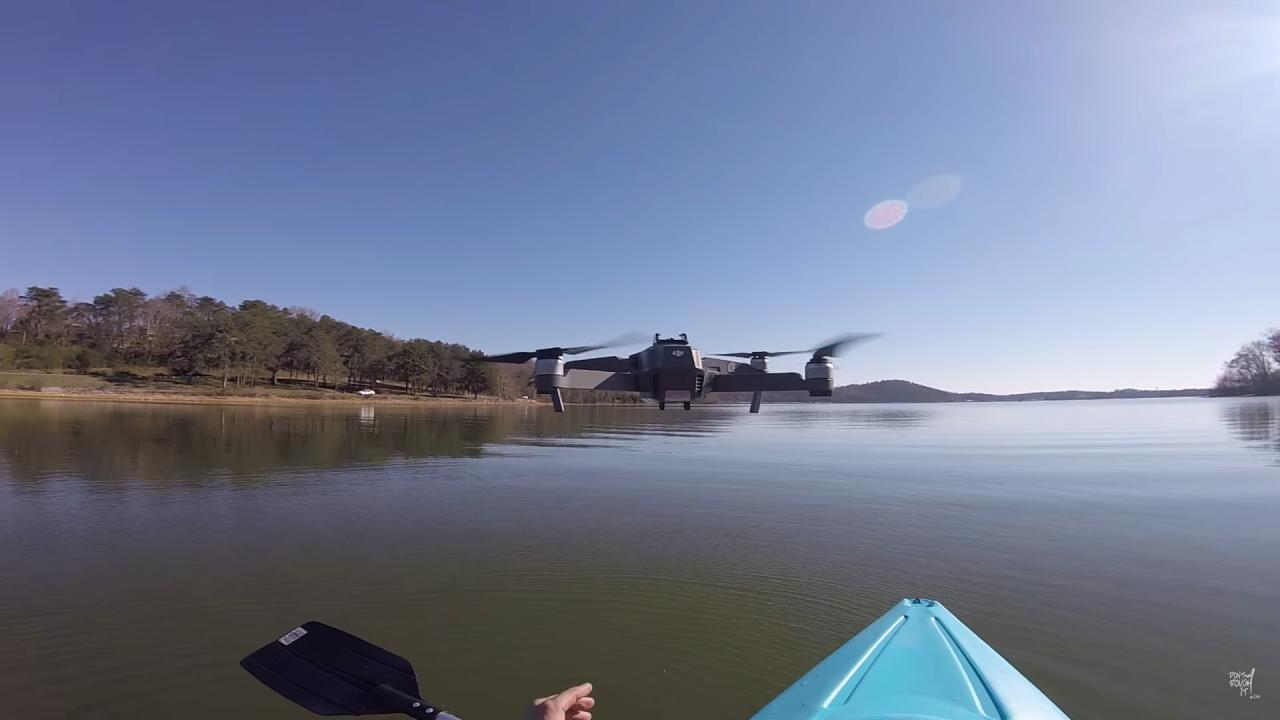Drone: (454, 306, 901, 436)
